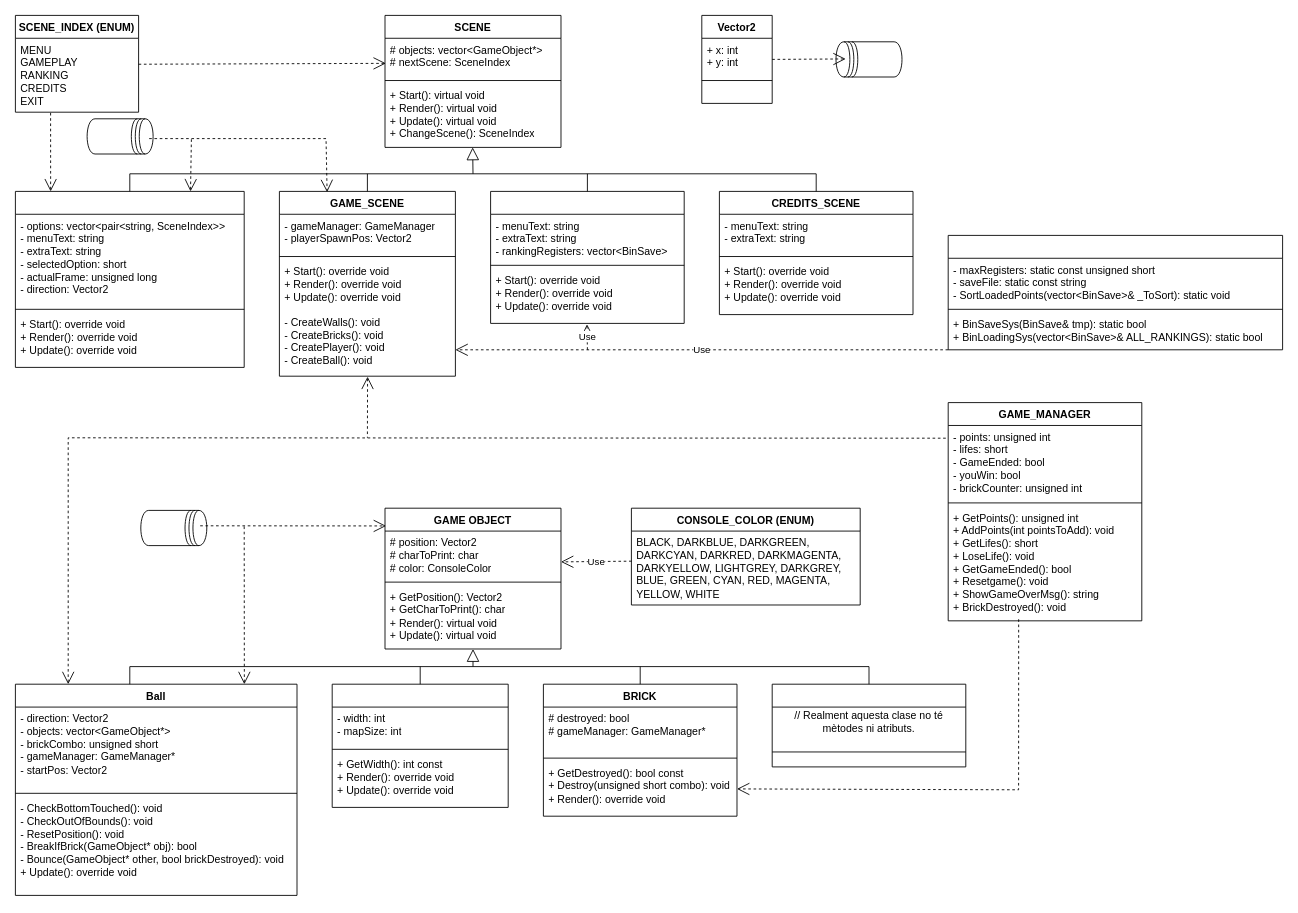
This 1298x913 diagram has some shape labels left out. The box of each missing label's shape, as (x1, y1, x2, y2) in pixels:
FILE_MANAGER: (947, 235, 1283, 350)
MENU_SCENE: (15, 191, 244, 367)
PAD: (331, 683, 508, 807)
RANKING_SCENE: (490, 191, 684, 323)
Wall: (771, 683, 966, 767)
